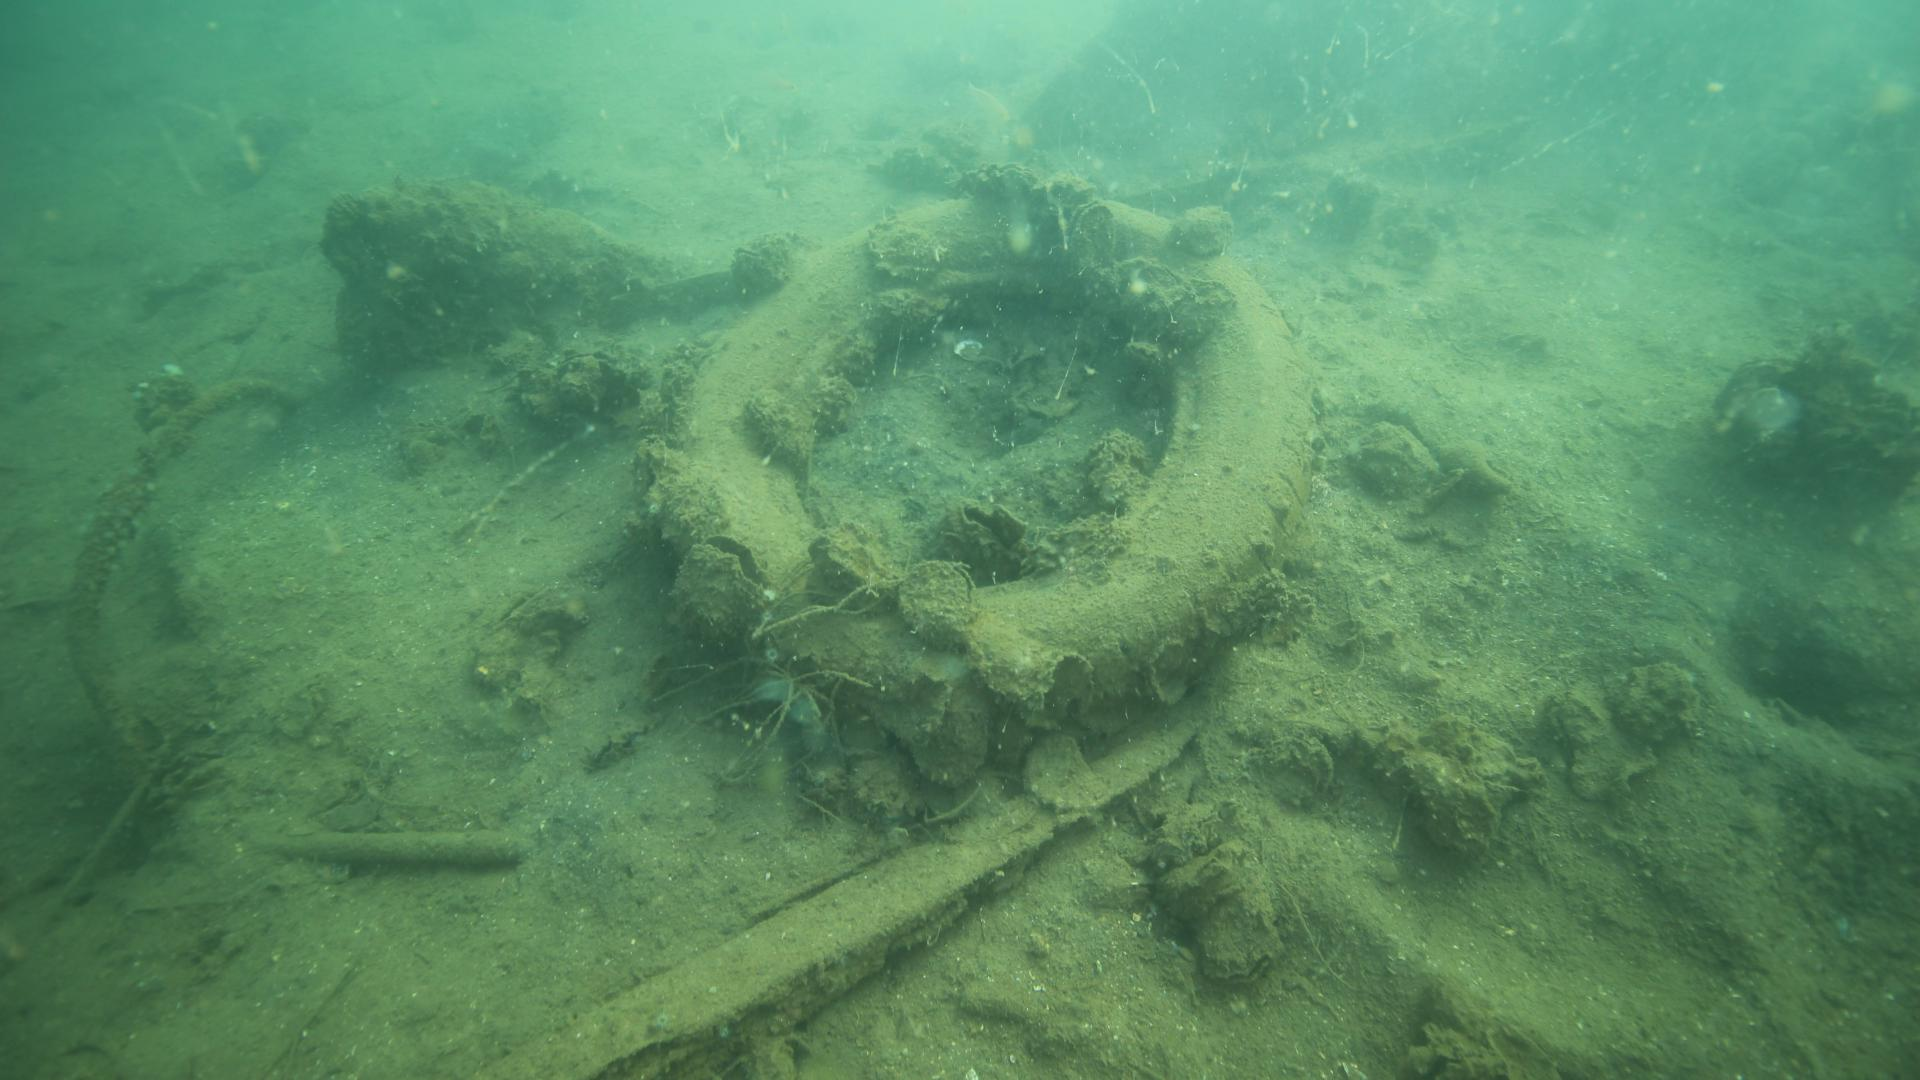tire: (665, 193, 1309, 736)
